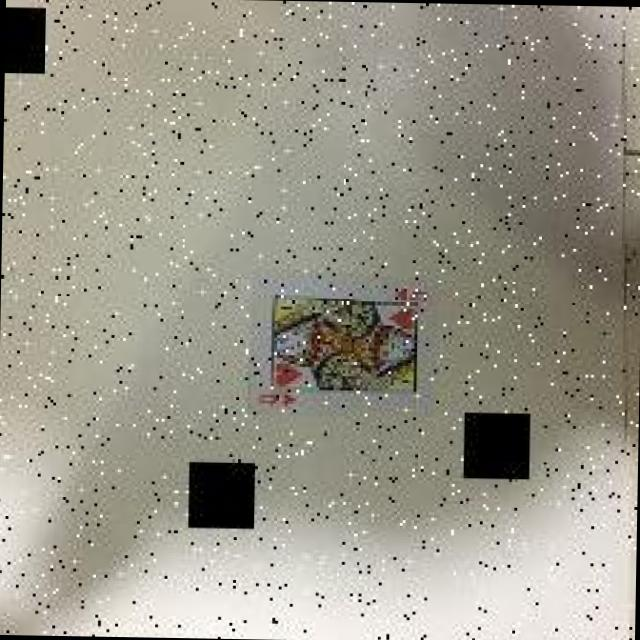Queen of hearts: (232, 276, 442, 424)
